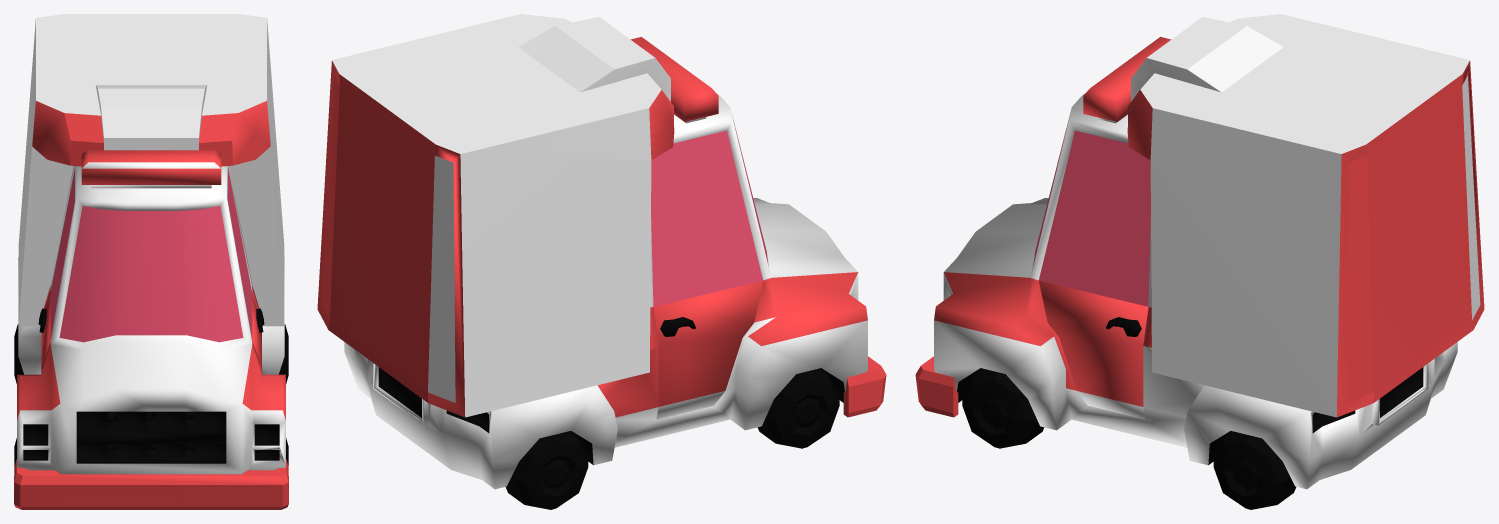
File: Toy217.fbx
The picture shows the model from 3 angles, left to right: view 1: azimuth 30°, elevation 25°; view 2: azimuth 150°, elevation 25°; view 3: azimuth 270°, elevation 25°; orthographic projection. The views are drawn at different scales.
Parts seen in each view (by area): view 1: Toy217; view 2: Toy217; view 3: Toy217.
Boxes of the visible parts, bbox=[...] form: Toy217: bbox=[14, 14, 288, 509]; Toy217: bbox=[317, 14, 886, 509]; Toy217: bbox=[915, 14, 1484, 509].
Bounding box in the file's own units: 0.1581 × 0.1348 × 0.1798.
